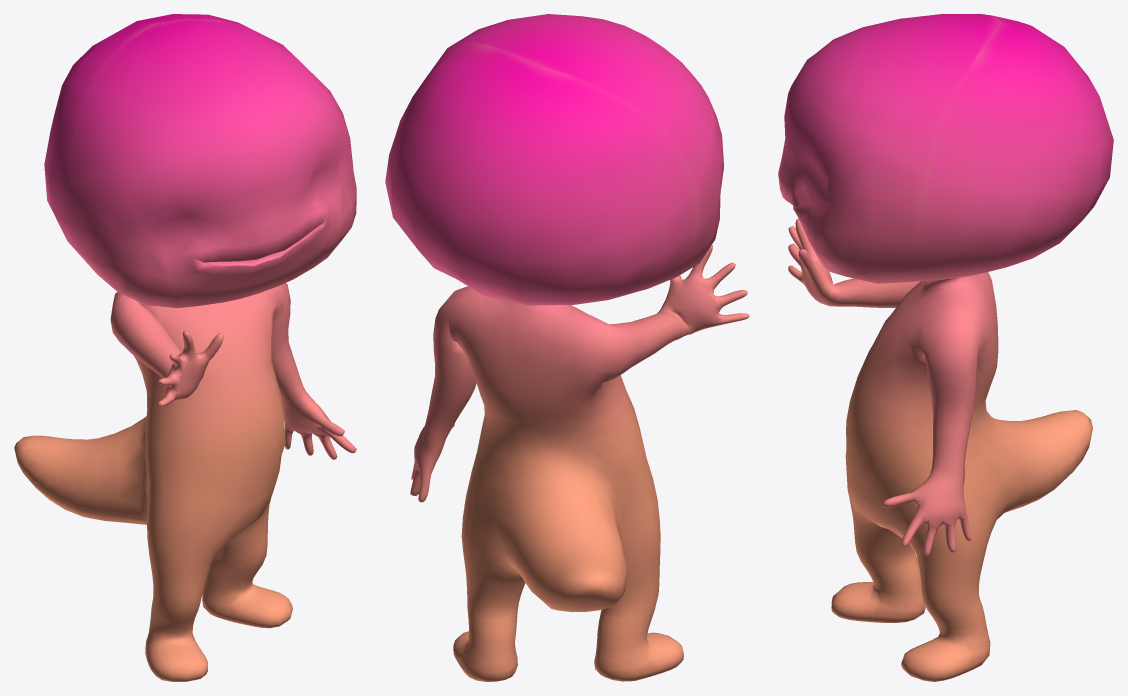
File: axo_0.glb
3 renders of one model, left to right at view 1: azimuth 30°, elevation 25°; view 2: azimuth 150°, elevation 25°; view 3: azimuth 270°, elevation 25°, orthographic. The views are drawn at different scales.
Parts seen in each view (by area): view 1: CUERPO LOW; view 2: CUERPO LOW; view 3: CUERPO LOW.
Boxes of the visible parts, <box> form: CUERPO LOW: <box>14,14,356,681</box>; CUERPO LOW: <box>385,14,749,681</box>; CUERPO LOW: <box>778,14,1113,681</box>.
Size of the model in its own units: 1.6 by 3.32 by 1.65.
1 material, 1 textured.
